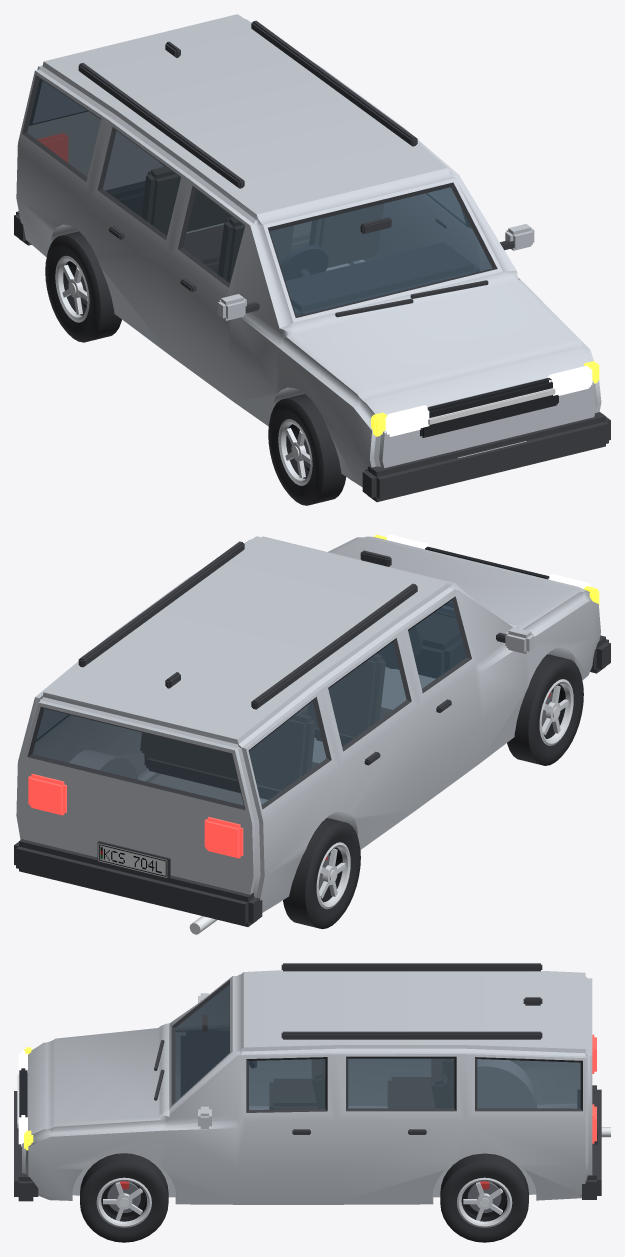
Rendered from Kenya_Probox_Wagon.glb.
3 renders of one model, top to bottom at view 1: azimuth 30°, elevation 25°; view 2: azimuth 150°, elevation 25°; view 3: azimuth 270°, elevation 25°, orthographic. The views are drawn at different scales.
Visible parts, largest first — view 1: Probox_Body, FrontBumper.001, CabinDashCowl.001, Wheel_FR.001, Wheel_RR.001, FrontGrille.001, SeatBack_0_-0.31, BenchBack_1.001, RoofRail_0.6, RoofRail_-0.6, BenchCush_1.001, SeatBack_0_0.31 (+5 smaller); view 2: Probox_Body, RearBumper.001, Wheel_RR.001, Wheel_FR.001, BenchBack_1.001, SeatBack_0_0.31, CabinDashCowl.001, RoofRail_0.6, RoofRail_-0.6, BenchCush_1.001, Tail_1.001, Tail_-1.001 (+4 smaller); view 3: Probox_Body, Wheel_FL.001, Wheel_RL.001, RoofRail_-0.6, RoofRail_0.6, CabinDashCowl.001, BenchCush_1.001, SeatCush_0_0.31, RearBumper.001, FrontBumper.001, BenchBack_1.001, SeatBack_0_-0.31 (+1 smaller).
Part boxes in pixels (bbox=[...]): Probox_Body: bbox=[16, 14, 601, 487]; FrontBumper.001: bbox=[362, 412, 610, 502]; CabinDashCowl.001: bbox=[285, 243, 479, 315]; Wheel_FR.001: bbox=[268, 394, 346, 505]; Wheel_RR.001: bbox=[45, 231, 121, 342]; FrontGrille.001: bbox=[420, 378, 558, 437]; SeatBack_0_-0.31: bbox=[309, 204, 383, 267]; BenchBack_1.001: bbox=[142, 167, 231, 235]; RoofRail_0.6: bbox=[78, 63, 244, 188]; RoofRail_-0.6: bbox=[251, 20, 417, 146]; BenchCush_1.001: bbox=[183, 221, 311, 273]; SeatBack_0_0.31: bbox=[218, 217, 293, 282]; Probox_Body: bbox=[16, 536, 600, 912]; RearBumper.001: bbox=[14, 839, 262, 926]; Wheel_RR.001: bbox=[283, 818, 360, 929]; Wheel_FR.001: bbox=[507, 654, 583, 765]; BenchBack_1.001: bbox=[140, 713, 315, 789]; SeatBack_0_0.31: bbox=[307, 654, 385, 736]; CabinDashCowl.001: bbox=[415, 613, 466, 678]; RoofRail_0.6: bbox=[251, 583, 417, 709]; RoofRail_-0.6: bbox=[78, 541, 244, 667]; BenchCush_1.001: bbox=[145, 757, 318, 799]; Tail_1.001: bbox=[204, 817, 243, 858]; Tail_-1.001: bbox=[28, 774, 66, 815]; Probox_Body: bbox=[22, 970, 592, 1204]; Wheel_FL.001: bbox=[80, 1153, 168, 1242]; Wheel_RL.001: bbox=[440, 1153, 528, 1242]; RoofRail_-0.6: bbox=[281, 1031, 542, 1039]; RoofRail_0.6: bbox=[281, 963, 542, 971]; CabinDashCowl.001: bbox=[181, 1031, 229, 1096]; BenchCush_1.001: bbox=[388, 1077, 435, 1107]; SeatCush_0_0.31: bbox=[269, 1079, 317, 1109]; RearBumper.001: bbox=[577, 1085, 601, 1199]; FrontBumper.001: bbox=[14, 1091, 38, 1201]; BenchBack_1.001: bbox=[431, 1059, 453, 1107]; SeatBack_0_-0.31: bbox=[312, 1059, 324, 1108].
Bounding box in the file's own units: 2.16 × 1.59 × 4.44.
Materials: 17 (1 with a texture image).
